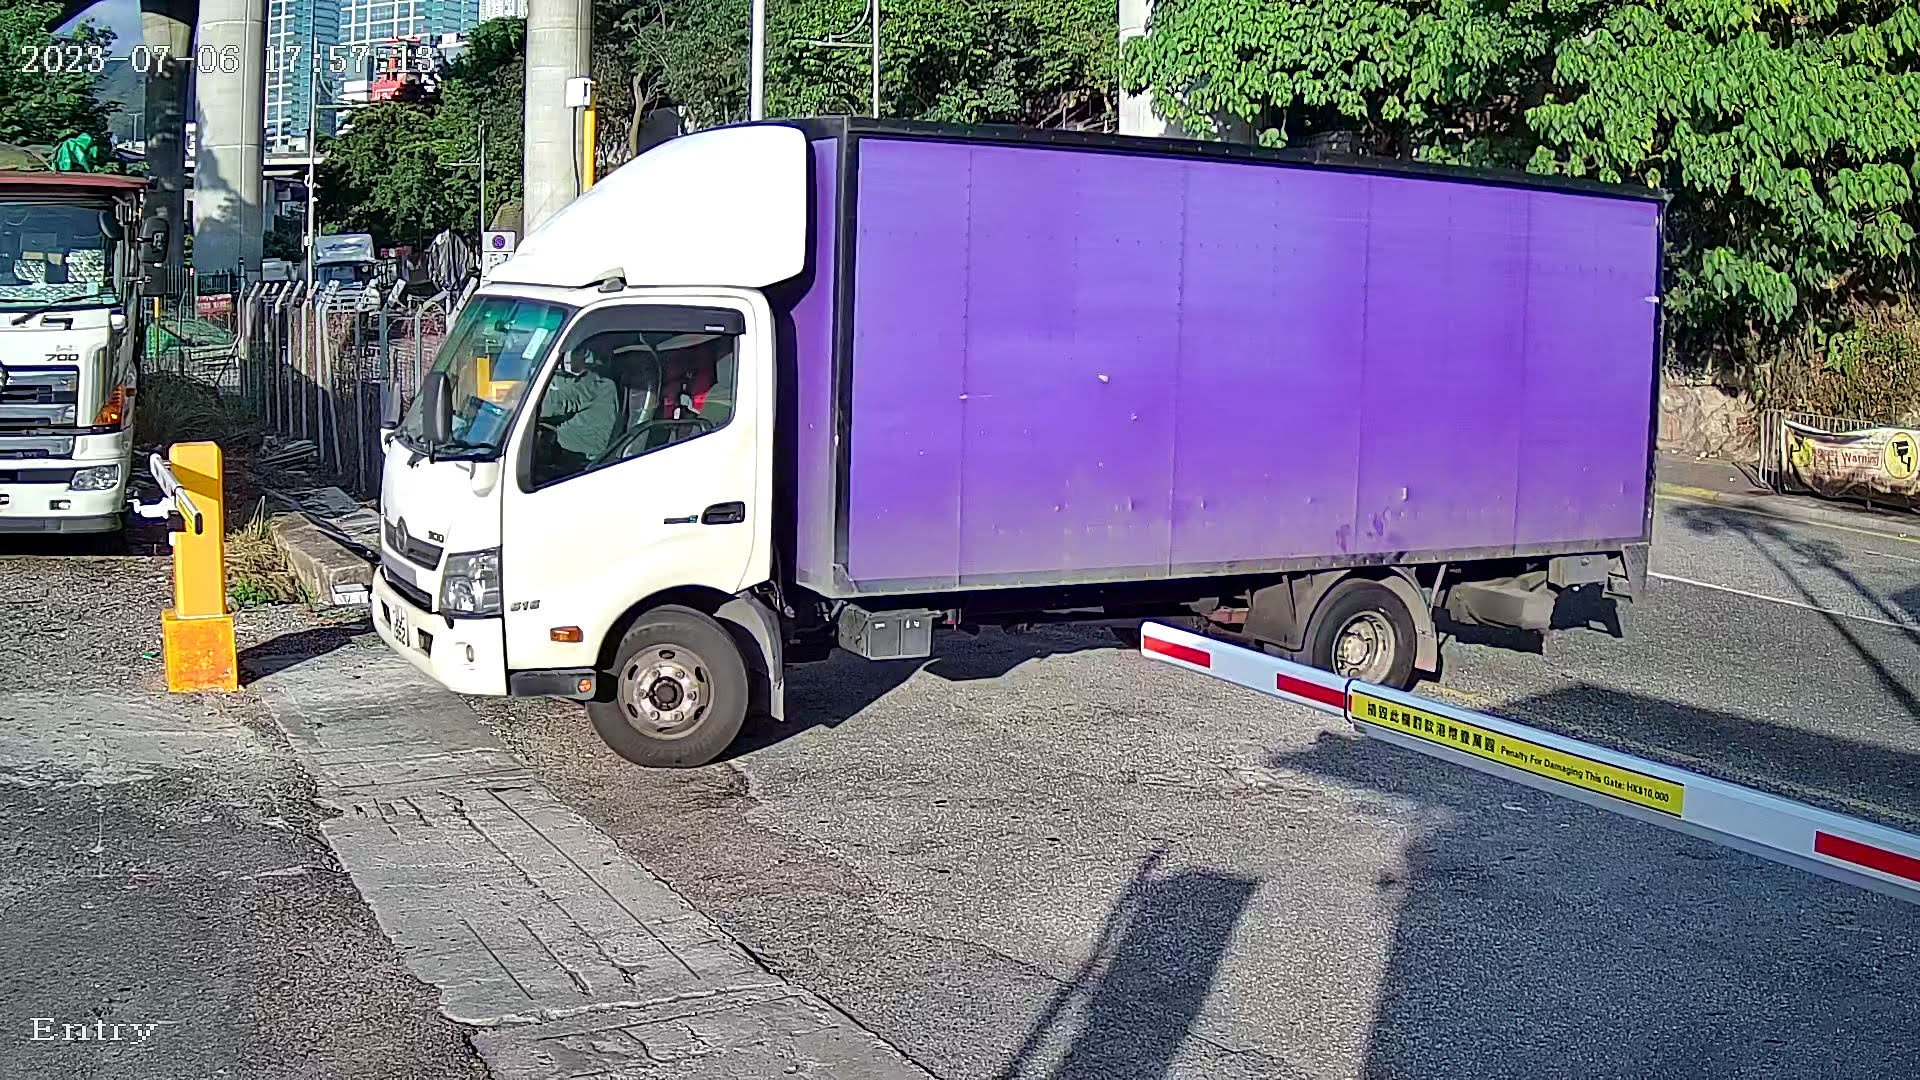truck: (313, 50, 1724, 781)
